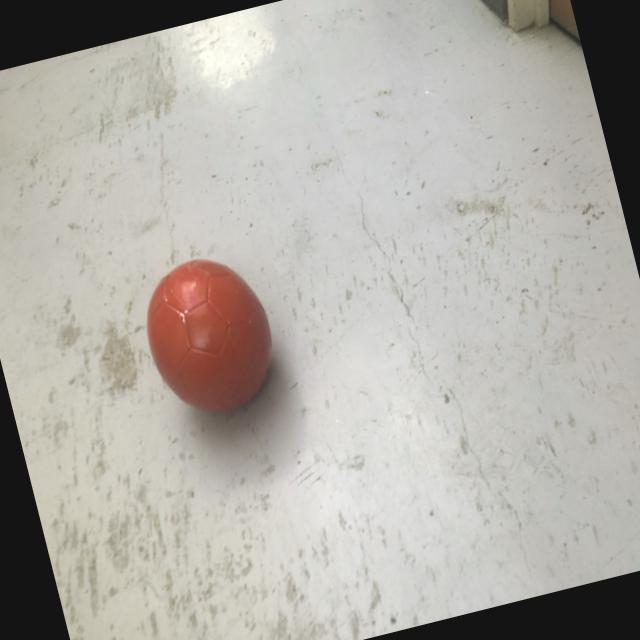red_ball: (133, 246, 284, 421)
